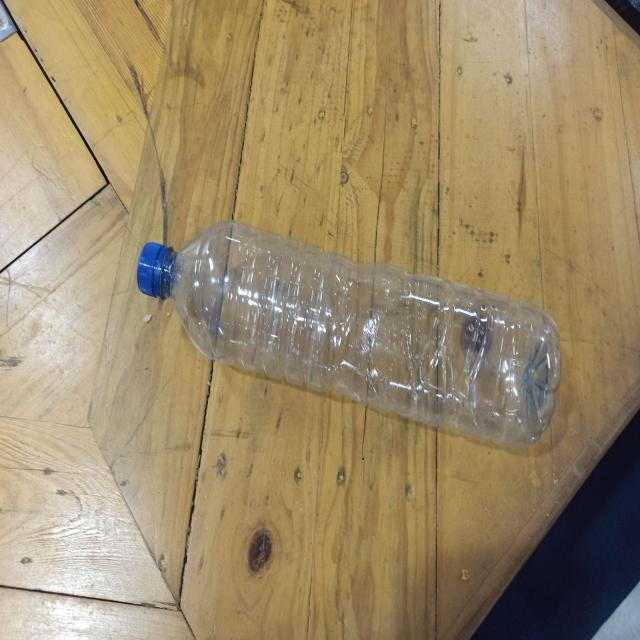BotolPlastik: (136, 217, 562, 449)
